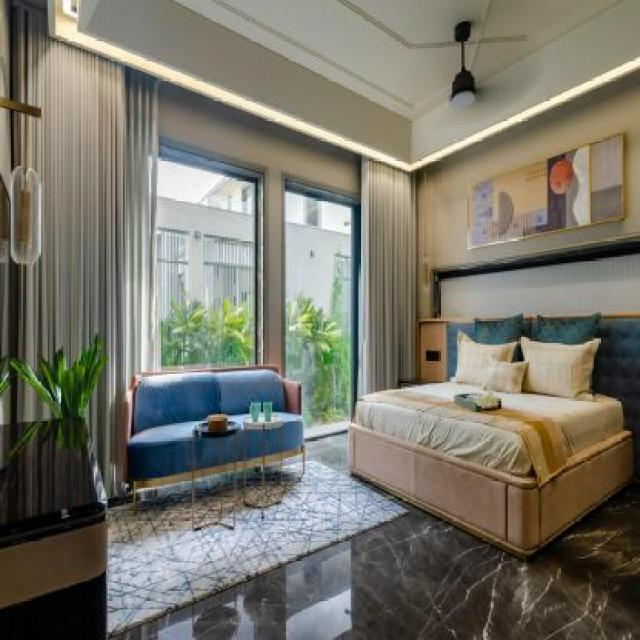Floor: (106, 430, 640, 639), (281, 452, 303, 468), (264, 460, 280, 471)
